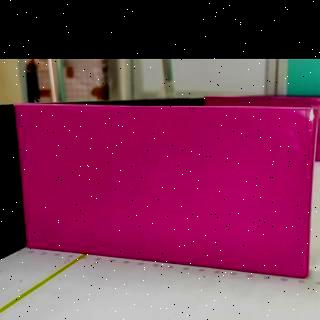xparking: (23, 105, 310, 278)
